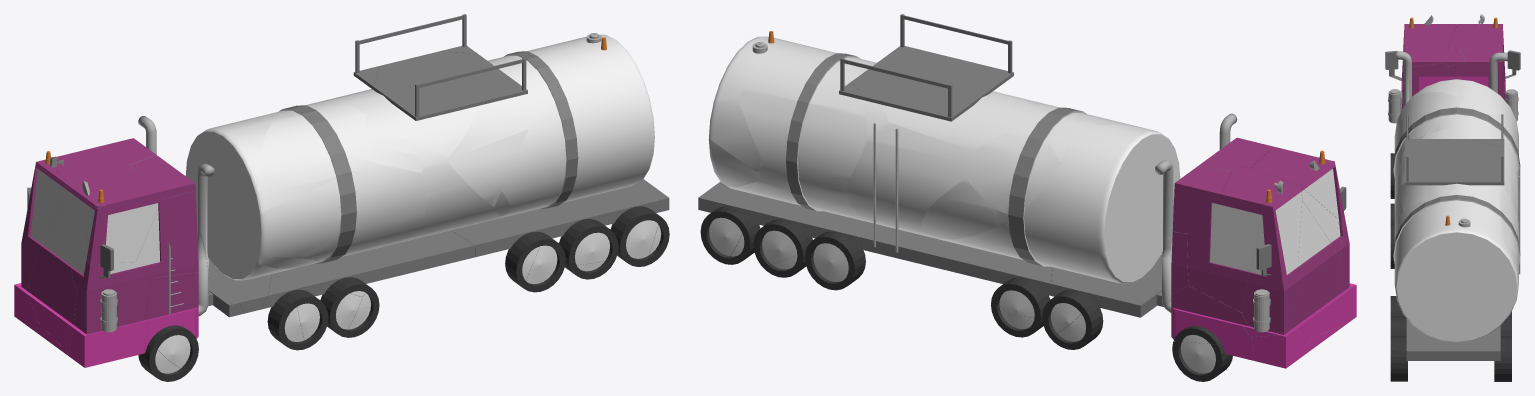
The model's file is Oil Purple Shatter.fbx.
3 renders of one model, left to right at view 1: azimuth 30°, elevation 25°; view 2: azimuth 150°, elevation 25°; view 3: azimuth 270°, elevation 25°, orthographic. The views are drawn at different scales.
Visible parts, largest first — view 1: Cylinder.100_cell.061, Cylinder.100_cell.062, Cylinder.100_cell.046, Cube.014_cell.011, Truck Body.008_cell.039, Truck Body.008_cell.058, Truck Body.008_cell.072, Truck Body.008_cell.052, Cylinder.100_cell.048, Cylinder.100_cell.060, Truck Body.008_cell.057, Truck Body.008_cell.049 (+30 smaller); view 2: Cylinder.100_cell.062, Cylinder.100_cell.047, Truck Body.008_cell.064, Cylinder.100_cell.056, Cube.014_cell.011, Cylinder.100_cell.059, Truck Body.008_cell.069, Cylinder.100_cell.061, Truck Body.008_cell.056, Cylinder.100_cell.051, Truck Body.008_cell.057, Truck Body.008_cell.052 (+36 smaller); view 3: Cylinder.100_cell.061, Cube.014_cell.011, Truck Body.008_cell.052, Cylinder.100_cell.046, Cylinder.100_cell.062, Cylinder.100_cell.051, Cylinder.100_cell.050, Truck Body.008_cell.066, Cylinder.100_cell.045, Truck Body.008_cell.064, Truck Body.008_cell.072, Cylinder.100_cell.048 (+29 smaller).
Part boxes in pixels (x1=…): Cylinder.100_cell.061: x1=280, y1=34, x2=654, y2=218; Cylinder.100_cell.062: x1=185, y1=114, x2=509, y2=268; Cylinder.100_cell.046: x1=258, y1=104, x2=371, y2=211; Cube.014_cell.011: x1=374, y1=51, x2=527, y2=120; Truck Body.008_cell.039: x1=69, y1=262, x2=150, y2=367; Truck Body.008_cell.058: x1=260, y1=230, x2=474, y2=309; Truck Body.008_cell.072: x1=66, y1=173, x2=163, y2=264; Truck Body.008_cell.052: x1=451, y1=179, x2=669, y2=257; Cylinder.100_cell.048: x1=447, y1=65, x2=540, y2=206; Cylinder.100_cell.060: x1=245, y1=164, x2=425, y2=263; Truck Body.008_cell.057: x1=28, y1=197, x2=76, y2=353; Truck Body.008_cell.049: x1=135, y1=190, x2=198, y2=277; Cylinder.100_cell.062: x1=937, y1=111, x2=1178, y2=282; Cylinder.100_cell.047: x1=845, y1=122, x2=973, y2=237; Truck Body.008_cell.064: x1=1187, y1=166, x2=1297, y2=312; Cylinder.100_cell.056: x1=738, y1=93, x2=868, y2=181; Cube.014_cell.011: x1=851, y1=14, x2=1013, y2=115; Cylinder.100_cell.059: x1=967, y1=132, x2=1060, y2=222; Truck Body.008_cell.069: x1=1242, y1=185, x2=1302, y2=336; Cylinder.100_cell.061: x1=709, y1=36, x2=1065, y2=234; Truck Body.008_cell.056: x1=858, y1=229, x2=1052, y2=295; Cylinder.100_cell.051: x1=741, y1=46, x2=864, y2=111; Truck Body.008_cell.057: x1=1291, y1=200, x2=1342, y2=338; Truck Body.008_cell.052: x1=698, y1=181, x2=895, y2=248; Cylinder.100_cell.061: x1=1393, y1=106, x2=1519, y2=342; Cube.014_cell.011: x1=1405, y1=114, x2=1504, y2=185; Truck Body.008_cell.052: x1=1406, y1=318, x2=1500, y2=360; Cylinder.100_cell.046: x1=1398, y1=92, x2=1484, y2=142; Cylinder.100_cell.062: x1=1393, y1=79, x2=1520, y2=212; Cylinder.100_cell.051: x1=1440, y1=185, x2=1503, y2=240; Cylinder.100_cell.050: x1=1460, y1=285, x2=1518, y2=332; Truck Body.008_cell.066: x1=1448, y1=44, x2=1504, y2=99; Cylinder.100_cell.045: x1=1427, y1=224, x2=1508, y2=283; Truck Body.008_cell.064: x1=1448, y1=25, x2=1505, y2=101; Truck Body.008_cell.072: x1=1402, y1=24, x2=1456, y2=71; Cylinder.100_cell.048: x1=1394, y1=183, x2=1469, y2=228.
Bounding box in the file's own units: 899 × 330 × 224.
